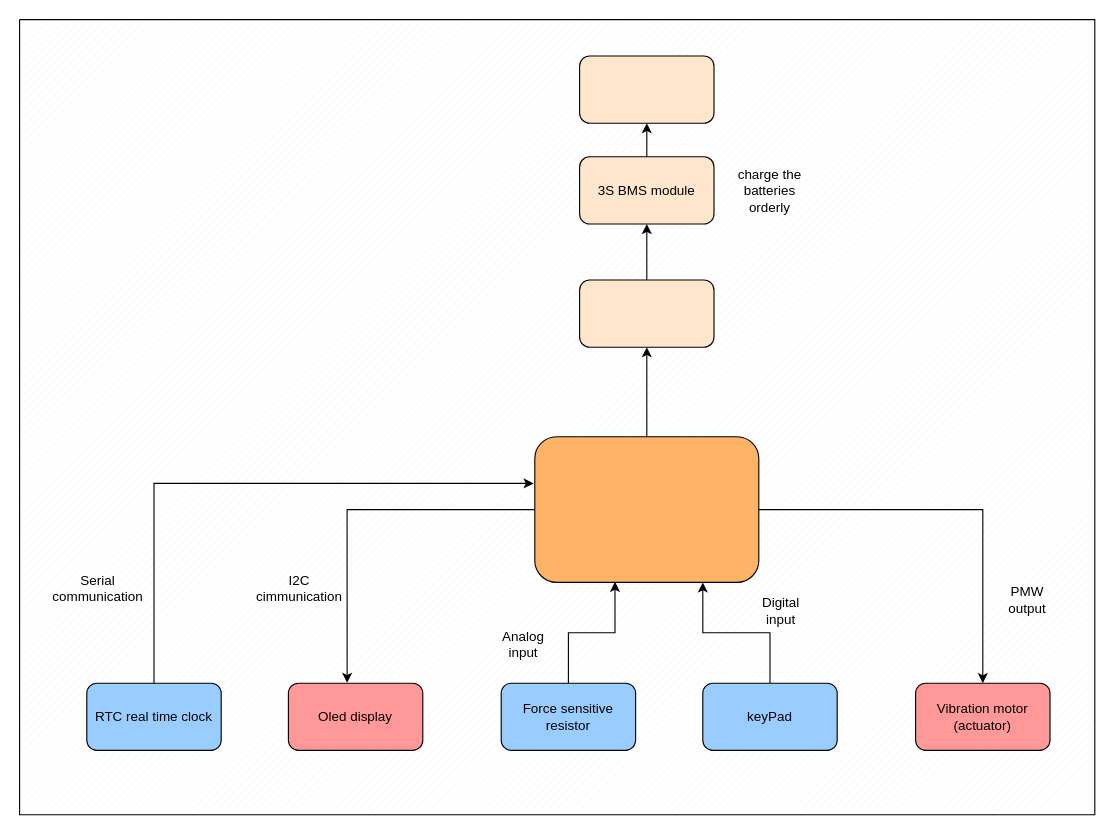
Some shapes in this 1114 by 834 pixel diagram are drawn without their labels. The shapes that lost their labels are listed below. From the top down, each one's centre as x and y in pixels, then its label:
At point 646,89: "TP4056 charging module".
At point 646,313: "Battery".
At point 646,509: "ESP32 Module".
